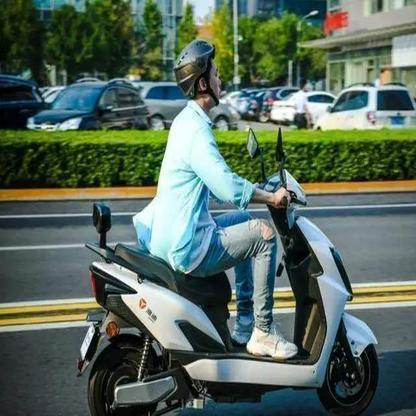target: (77, 36, 381, 408)
